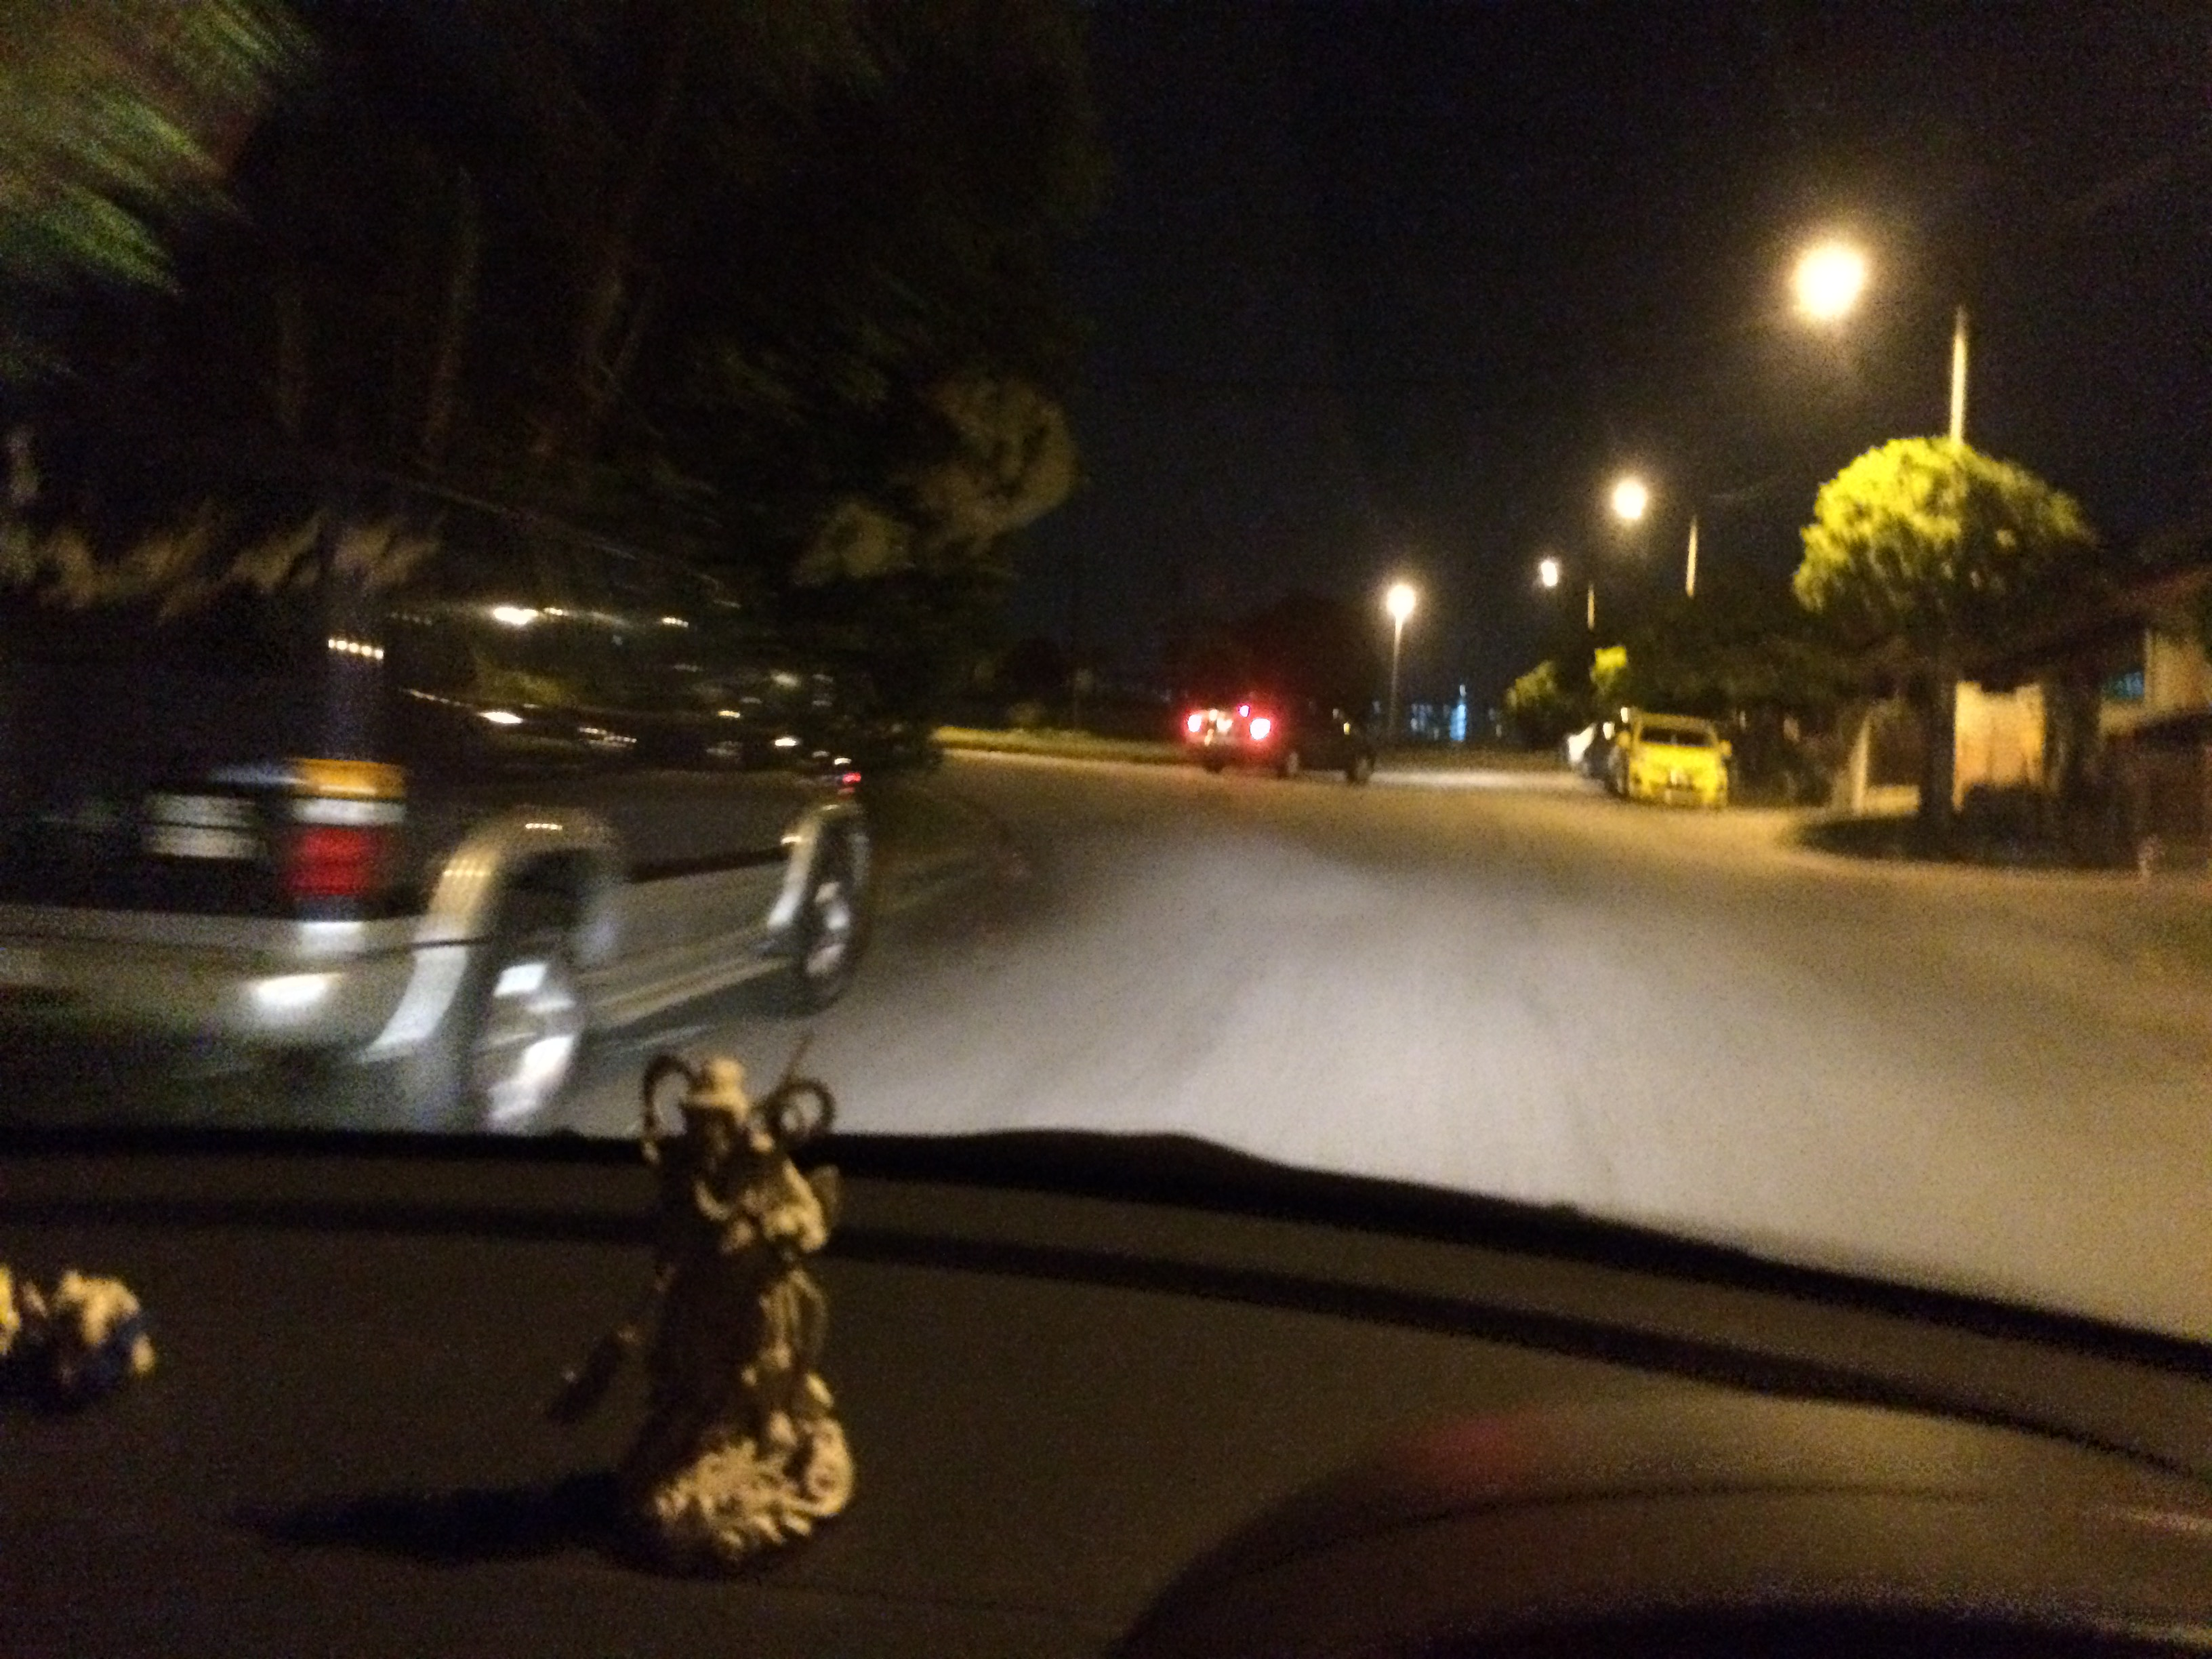car: (21, 455, 911, 1175)
